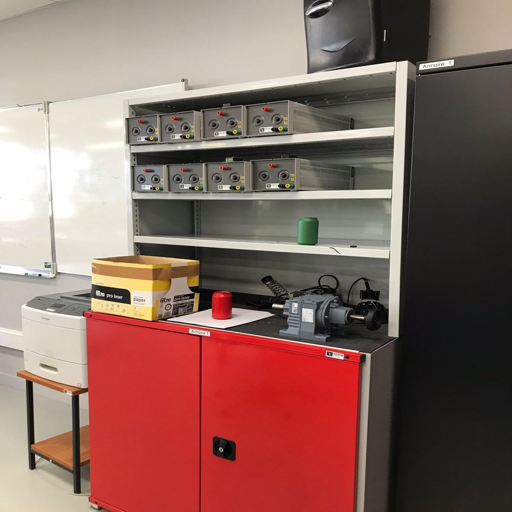Green_Can: (296, 215, 319, 244)
Red_Can: (210, 289, 232, 318)
